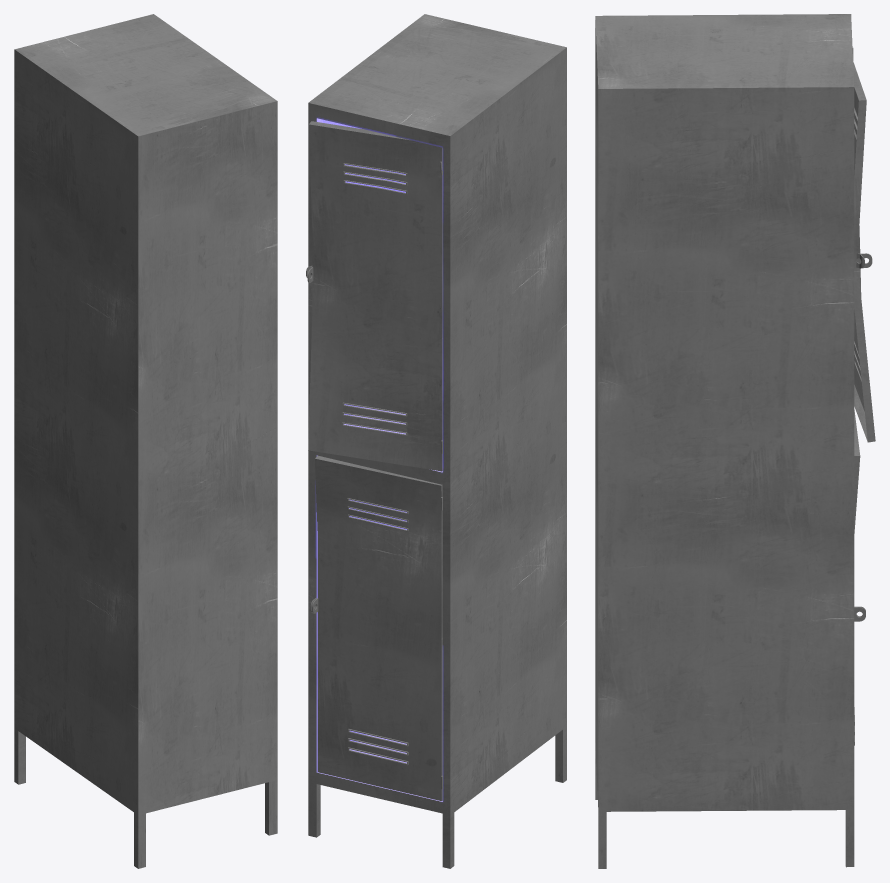
File: FUT0410002.fbx
3 renders of one model, left to right at view 1: azimuth 30°, elevation 25°; view 2: azimuth 150°, elevation 25°; view 3: azimuth 270°, elevation 25°, orthographic. The views are drawn at different scales.
Parts seen in each view (by area): view 1: smFUT0410002; view 2: smFUT0410002; view 3: smFUT0410002.
Part boxes in pixels (bbox=[...]): smFUT0410002: bbox=[14, 14, 277, 868]; smFUT0410002: bbox=[306, 14, 566, 868]; smFUT0410002: bbox=[595, 14, 875, 868].
Bounding box in the file's own units: 61.19 × 297 × 96.64.
1 material, 1 textured.
